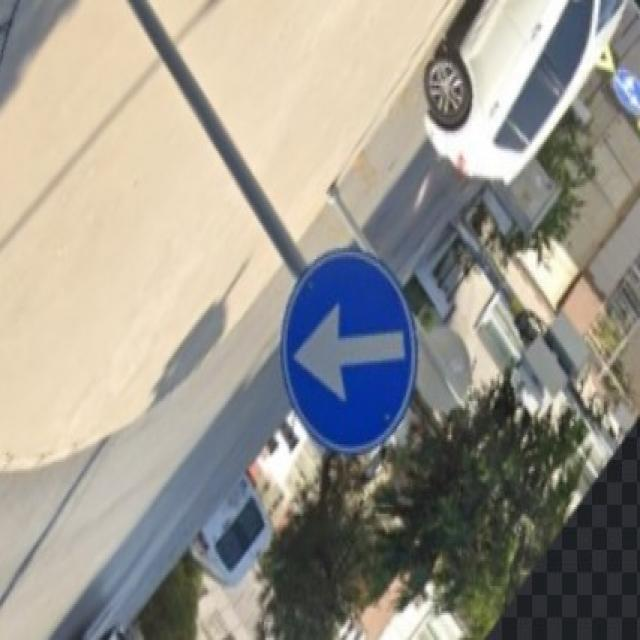Turn Left: (279, 256, 420, 454)
